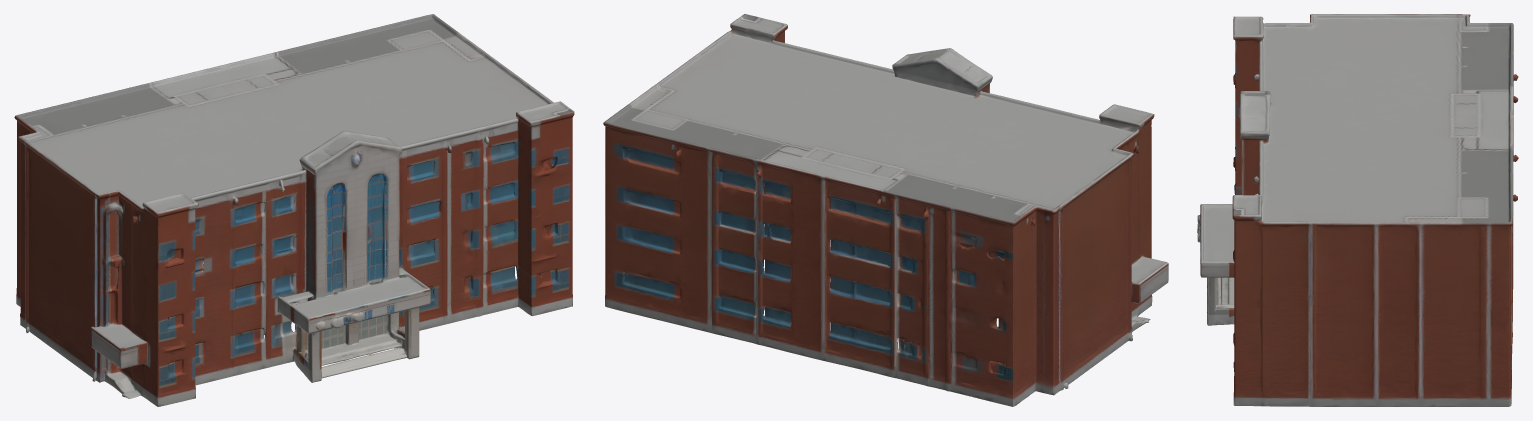
File: mirae.glb
3 renders of one model, left to right at view 1: azimuth 30°, elevation 25°; view 2: azimuth 150°, elevation 25°; view 3: azimuth 270°, elevation 25°, orthographic. The views are drawn at different scales.
Visible parts, largest first — view 1: tripo_node_4adf60f7-3b08-41c7-a4d4-fef28b6e2691; view 2: tripo_node_4adf60f7-3b08-41c7-a4d4-fef28b6e2691; view 3: tripo_node_4adf60f7-3b08-41c7-a4d4-fef28b6e2691.
Boxes of the visible parts, x1,y1,x2,y2 form: tripo_node_4adf60f7-3b08-41c7-a4d4-fef28b6e2691: [14, 14, 574, 406]; tripo_node_4adf60f7-3b08-41c7-a4d4-fef28b6e2691: [603, 14, 1168, 406]; tripo_node_4adf60f7-3b08-41c7-a4d4-fef28b6e2691: [1197, 14, 1518, 406].
Bounding box in the file's own units: 0.9999 × 0.465 × 0.6385.
Materials: 1 (1 with a texture image).
